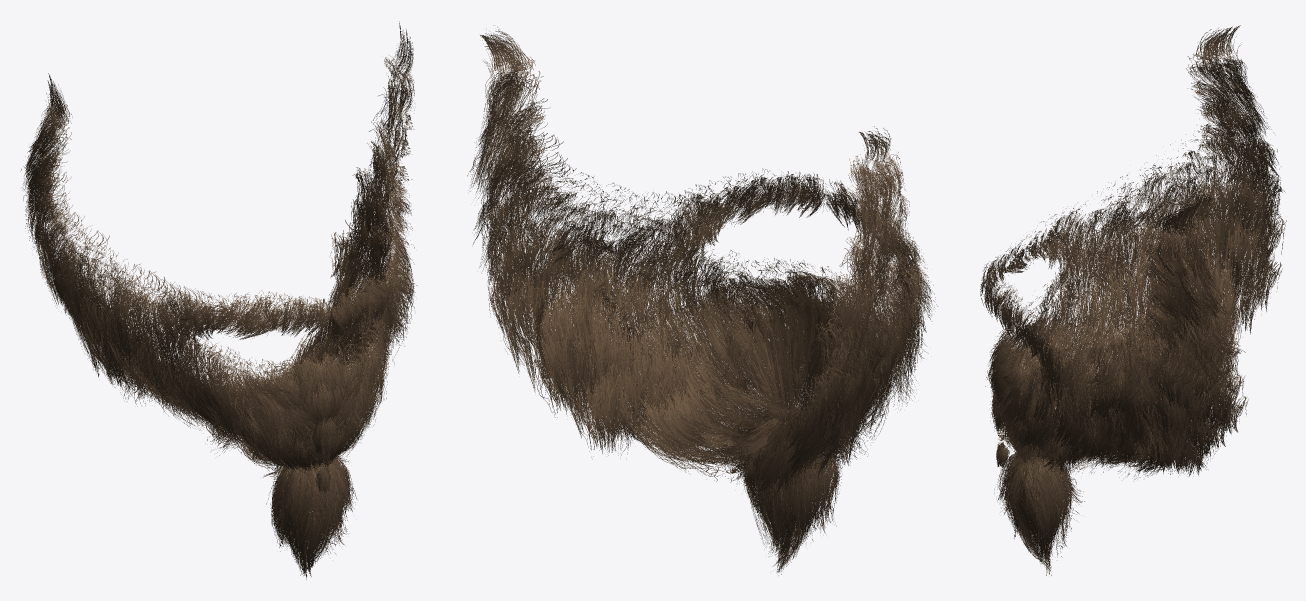
File: beard_full.glb
3 renders of one model, left to right at view 1: azimuth 30°, elevation 25°; view 2: azimuth 150°, elevation 25°; view 3: azimuth 270°, elevation 25°, orthographic. The views are drawn at different scales.
Parts seen in each view (by area): view 1: BEARD; view 2: BEARD; view 3: BEARD.
Boxes of the visible parts, box(x1,y1,x2,y2) form: BEARD: box(20, 21, 417, 579); BEARD: box(467, 25, 937, 575); BEARD: box(980, 25, 1286, 575).
Bounding box in the file's own units: 17.6 × 22.47 × 13.12.
Materials: 1 (1 with a texture image).
